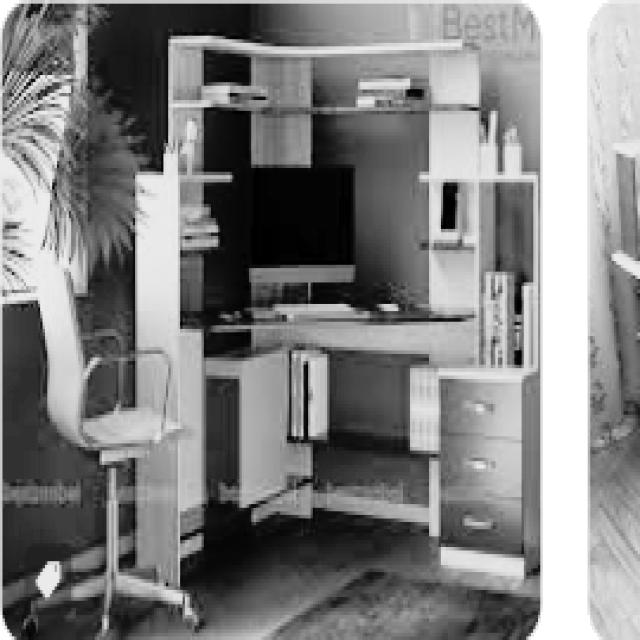book: (31, 250, 201, 636)
table: (149, 25, 544, 603)
